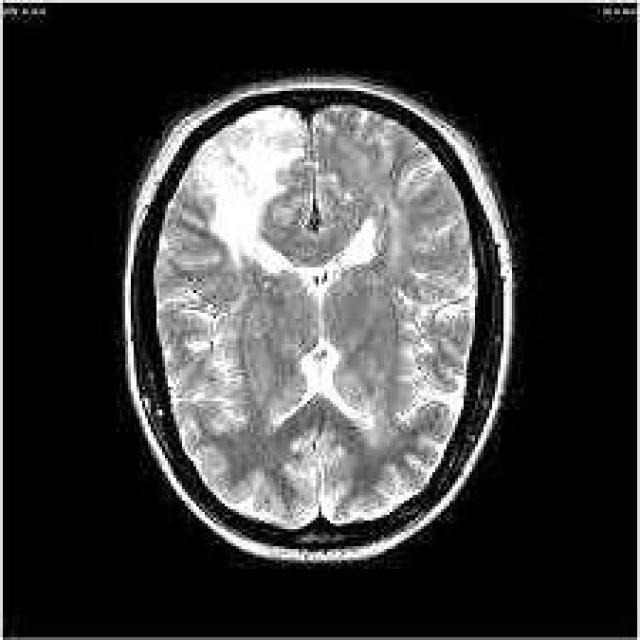notumor: (122, 77, 512, 560)
